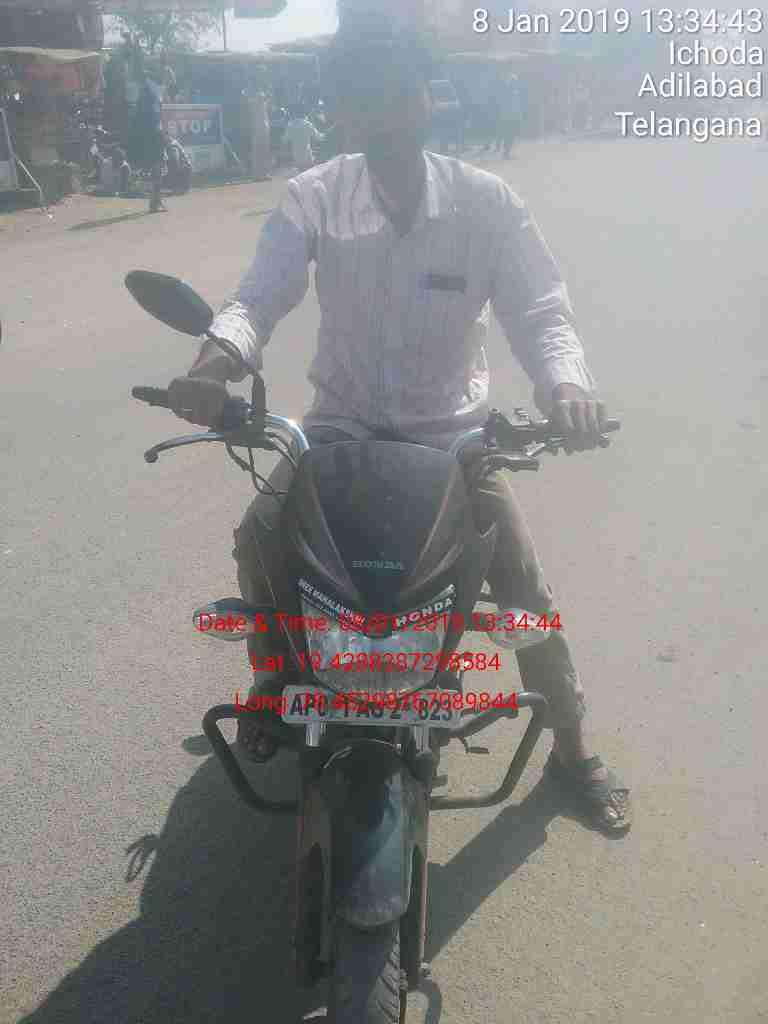without_helmet: (128, 6, 678, 1024)
